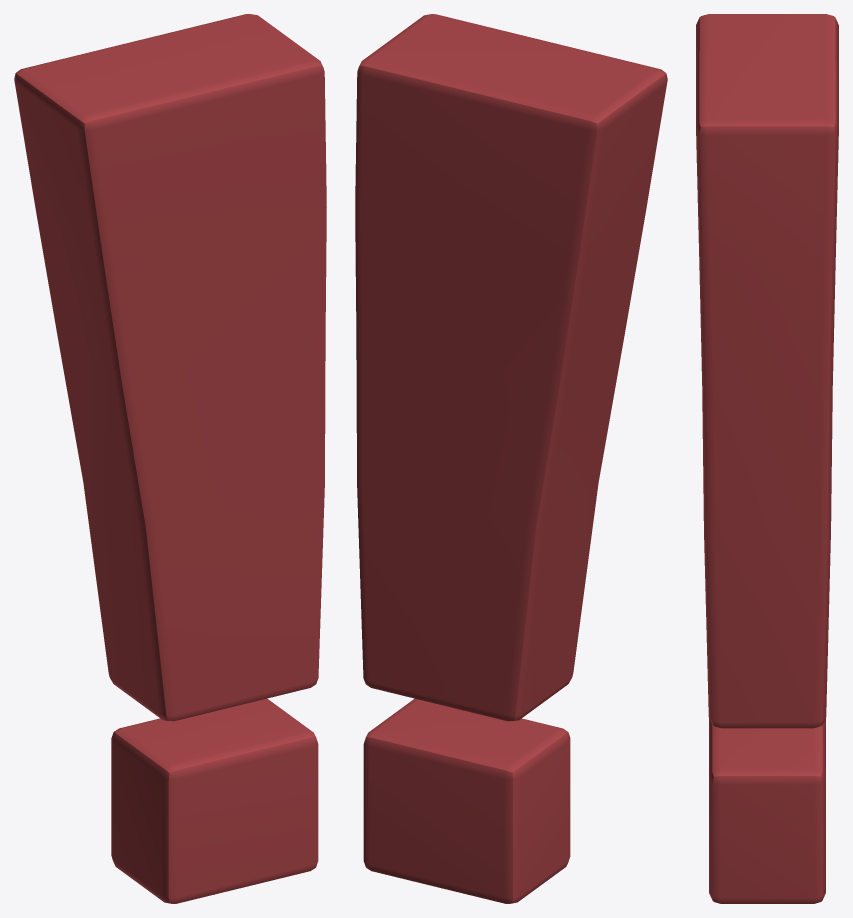
File: SIgnoExclamacionAtaque.fbx
3 views of the same model, side by side, from view 1: azimuth 30°, elevation 25°; view 2: azimuth 150°, elevation 25°; view 3: azimuth 270°, elevation 25° (orthographic). The views are drawn at different scales.
Visible parts, largest first — view 1: SignoExclamacion_high; view 2: SignoExclamacion_high; view 3: SignoExclamacion_high.
Part boxes in pixels (x1,y1,x2,y2): SignoExclamacion_high: [14, 14, 326, 903]; SignoExclamacion_high: [355, 14, 667, 903]; SignoExclamacion_high: [696, 14, 838, 903].
Size of the model in its own units: 1.28 by 3.98 by 0.6581.
